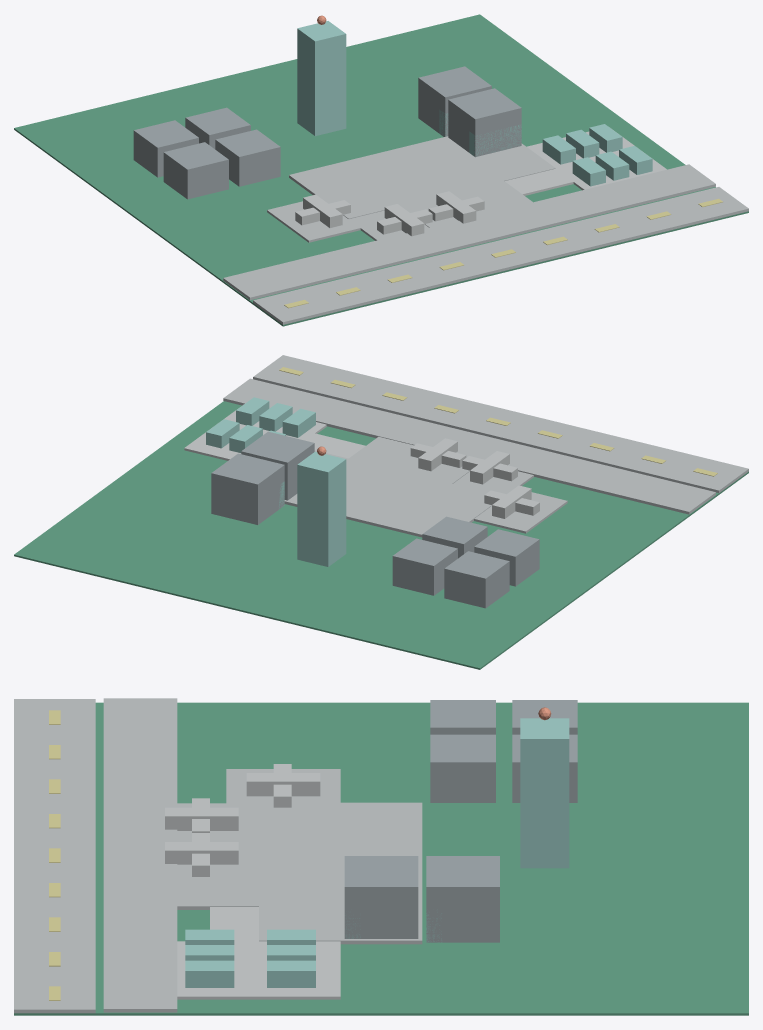
Rendered from stage_17.glb.
3 renders of one model, top to bottom at view 1: azimuth 30°, elevation 25°; view 2: azimuth 150°, elevation 25°; view 3: azimuth 270°, elevation 25°, orthographic. The views are drawn at different scales.
Visible parts, largest first — view 1: geometry_0; view 2: geometry_0; view 3: geometry_0.
Part boxes in pixels (left/top/right/bottom): geometry_0: left=14, top=14, right=748, bottom=326; geometry_0: left=14, top=355, right=748, bottom=669; geometry_0: left=14, top=698, right=748, bottom=1015.
Bounding box in the file's own units: 9 × 2.06 × 9.
